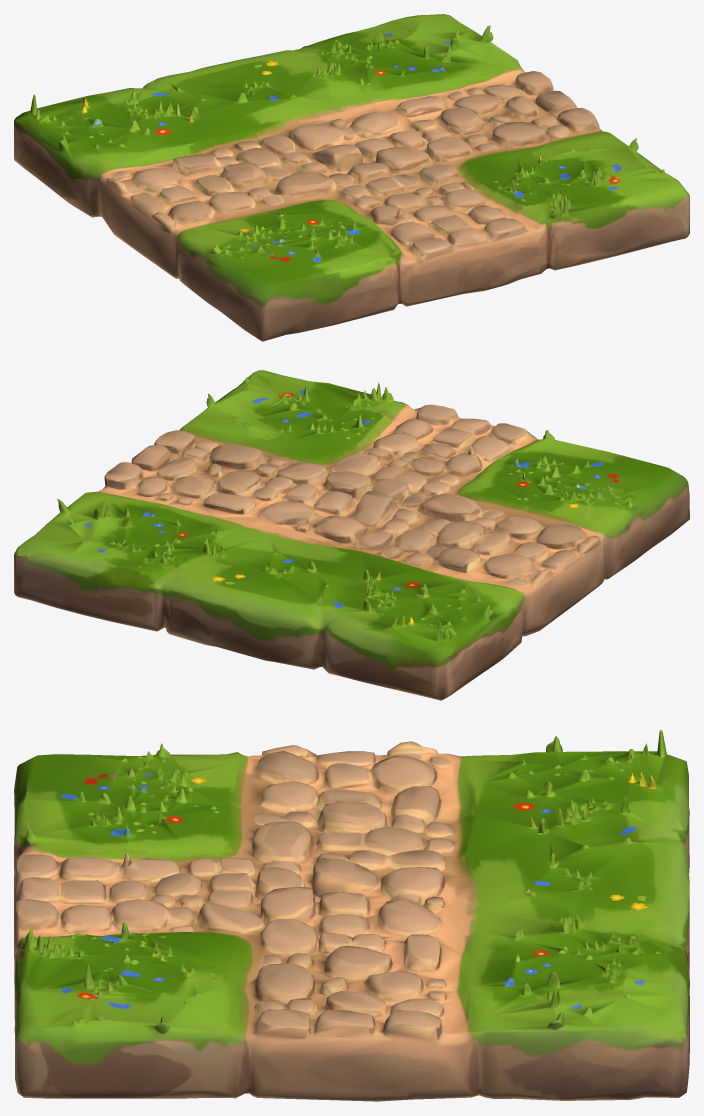
The model's file is path-t.glb.
3 views of the same model, one above another, from view 1: azimuth 30°, elevation 25°; view 2: azimuth 150°, elevation 25°; view 3: azimuth 270°, elevation 25° (orthographic). The views are drawn at different scales.
Visible parts, largest first — view 1: Mesh1.0; view 2: Mesh1.0; view 3: Mesh1.0.
Part boxes in pixels (x1,y1,x2,y2): Mesh1.0: (14,14,689,341); Mesh1.0: (14,370,689,700); Mesh1.0: (14,729,689,1101).
Bounding box in the file's own units: 1.9 × 0.3119 × 1.9.
Materials: 1 (1 with a texture image).
